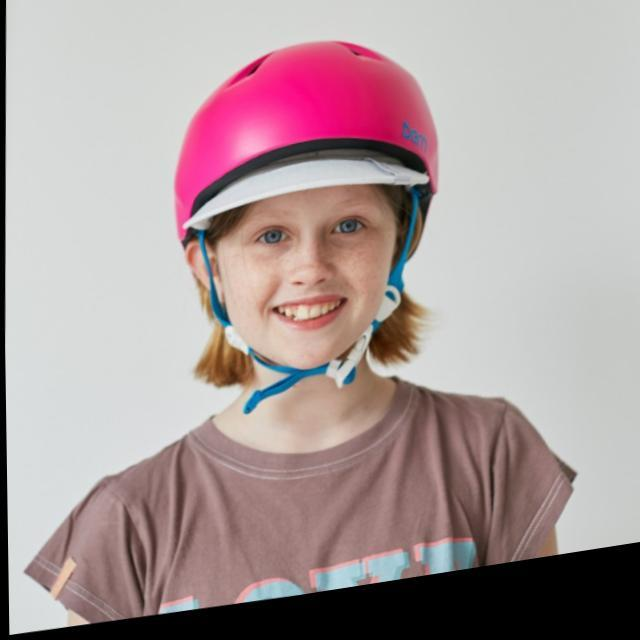Helmet: (171, 38, 442, 388)
